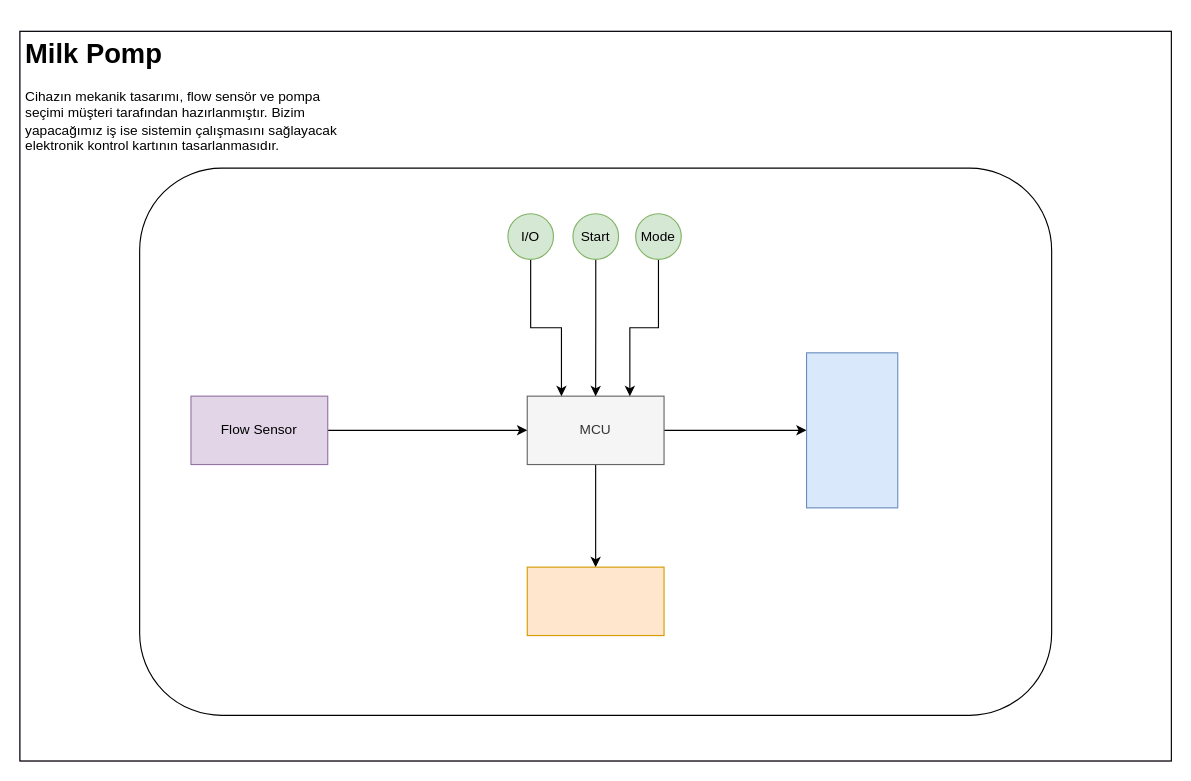
The diagram is 1191 pixels wide and 781 high, and some of its shapes have lost their labels. Each missing label, with the centre of its shape:
7-Segment Display: (x=851, y=430)
Relay: (x=595, y=601)
